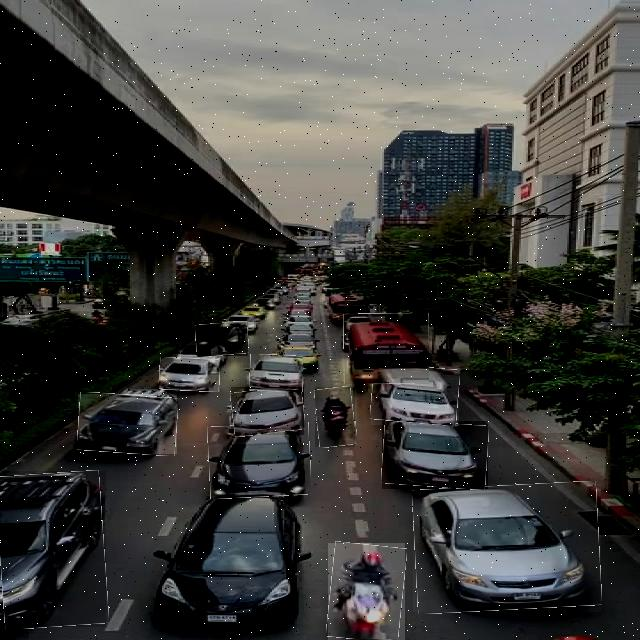Bus: (344, 314, 429, 384)
Car: (413, 484, 601, 612), (152, 491, 304, 633), (0, 471, 106, 627), (208, 424, 311, 498), (382, 421, 488, 489), (78, 394, 177, 454), (371, 365, 459, 425), (231, 387, 304, 435), (160, 358, 220, 392), (250, 354, 303, 392), (196, 322, 248, 356)
Motorcycle: (328, 543, 405, 640), (316, 387, 356, 447)
